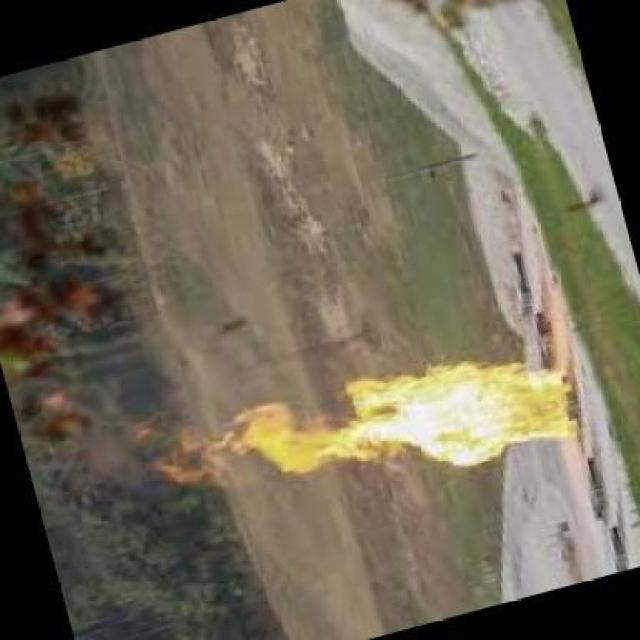Fire: (150, 334, 584, 490)
